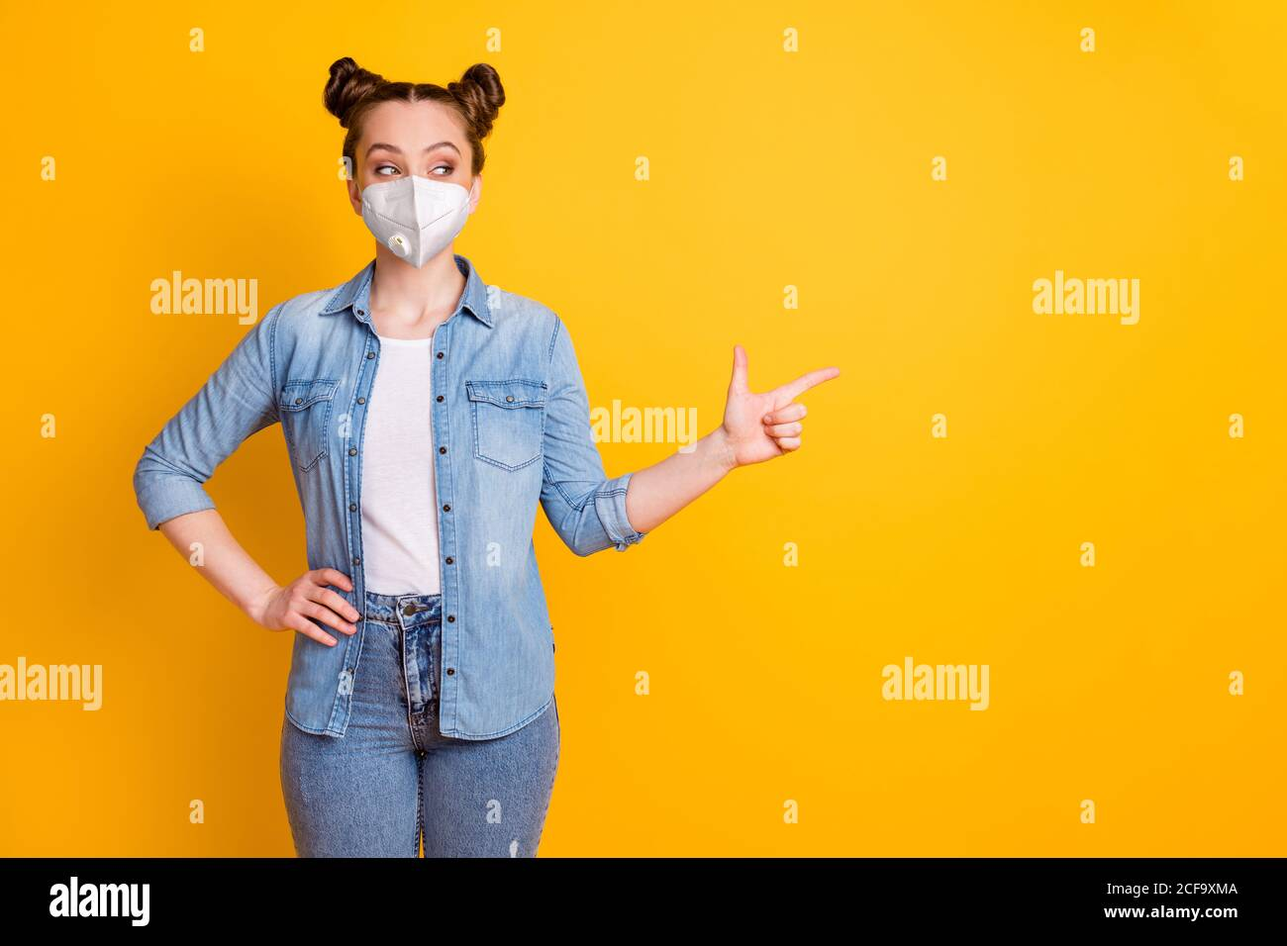with_mask: (338, 86, 488, 275)
